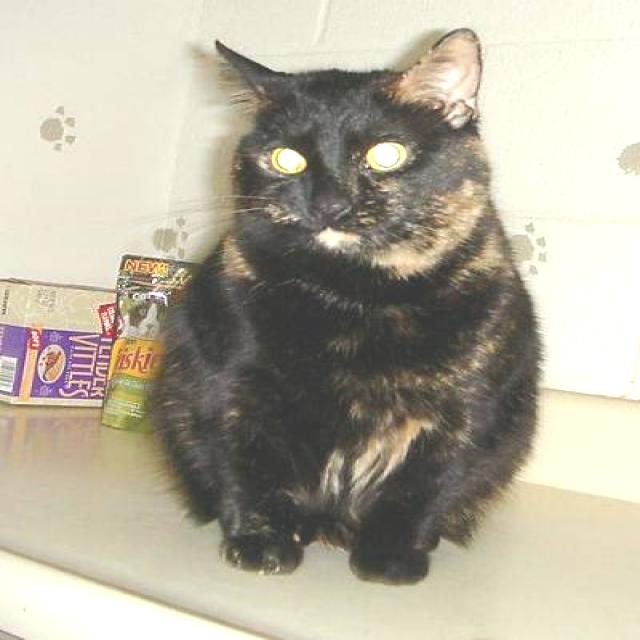Kucing: (126, 25, 564, 611)
